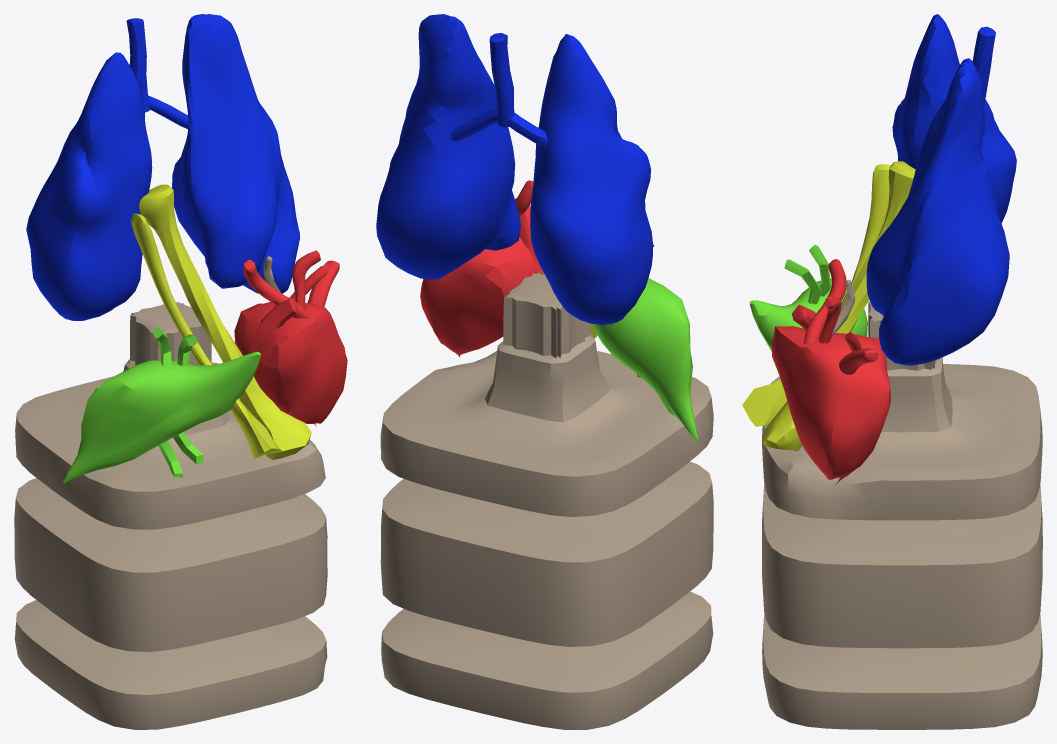
File: T_COMODIN_07.fbx
3 renders of one model, left to right at view 1: azimuth 30°, elevation 25°; view 2: azimuth 150°, elevation 25°; view 3: azimuth 270°, elevation 25°, orthographic. The views are drawn at different scales.
Parts seen in each view (by area): view 1: COMODIN FINAL Remeshed; view 2: COMODIN FINAL Remeshed; view 3: COMODIN FINAL Remeshed.
Boxes of the visible parts, x1,y1,x2,y2 form: COMODIN FINAL Remeshed: [14, 14, 347, 729]; COMODIN FINAL Remeshed: [376, 14, 713, 729]; COMODIN FINAL Remeshed: [742, 14, 1042, 729].
Bounding box in the file's own units: 59.18 × 53.28 × 127.
